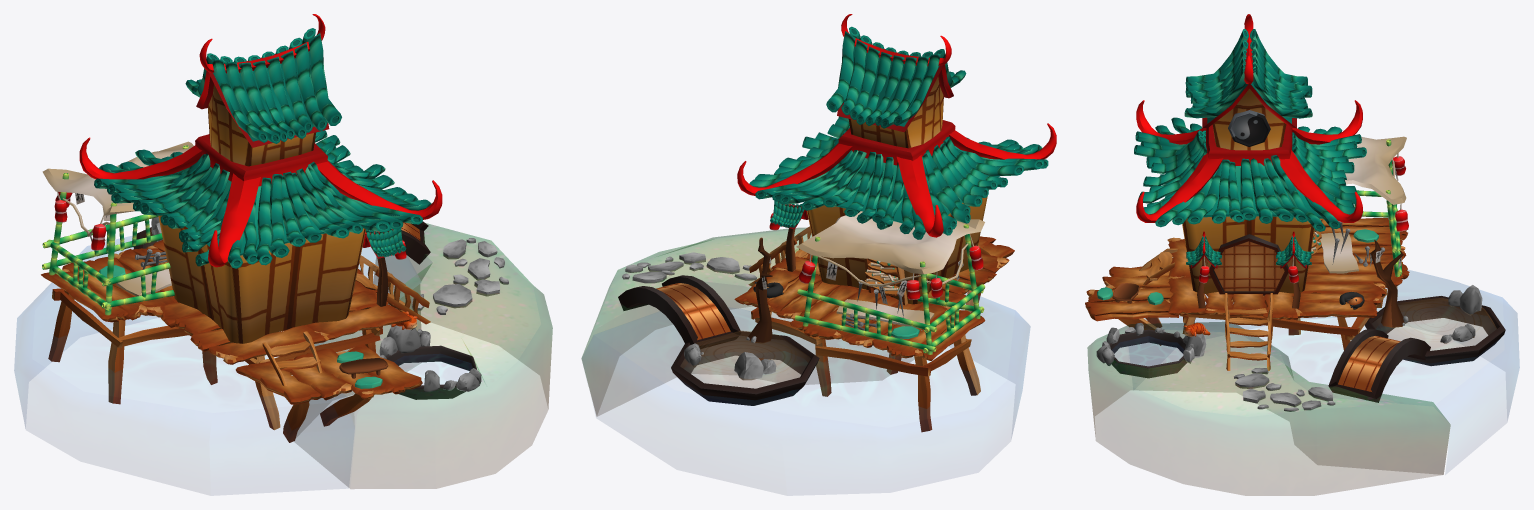
3 views of the same model, side by side, from view 1: azimuth 30°, elevation 25°; view 2: azimuth 150°, elevation 25°; view 3: azimuth 270°, elevation 25° (orthographic). The views are drawn at different scales.
Parts seen in each view (by area): view 1: zenGarden; view 2: zenGarden; view 3: zenGarden.
Part boxes in pixels (x1=…): zenGarden: x1=14, y1=14, x2=552, y2=488; zenGarden: x1=581, y1=14, x2=1056, y2=437; zenGarden: x1=1085, y1=14, x2=1519, y2=495.
Bounding box in the file's own units: 120 × 104 × 118.
Materials: 3 (2 with a texture image).
